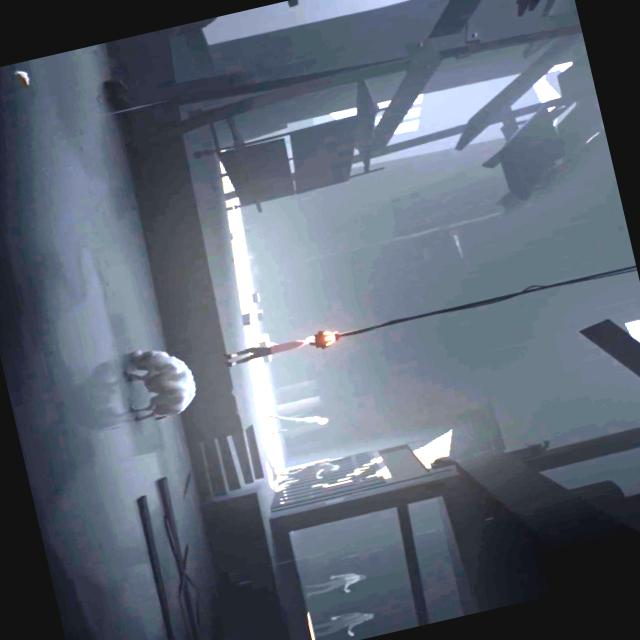boy: (222, 329, 318, 368)
zombie: (264, 400, 329, 436), (302, 567, 368, 601), (310, 606, 376, 640), (271, 456, 340, 487)
